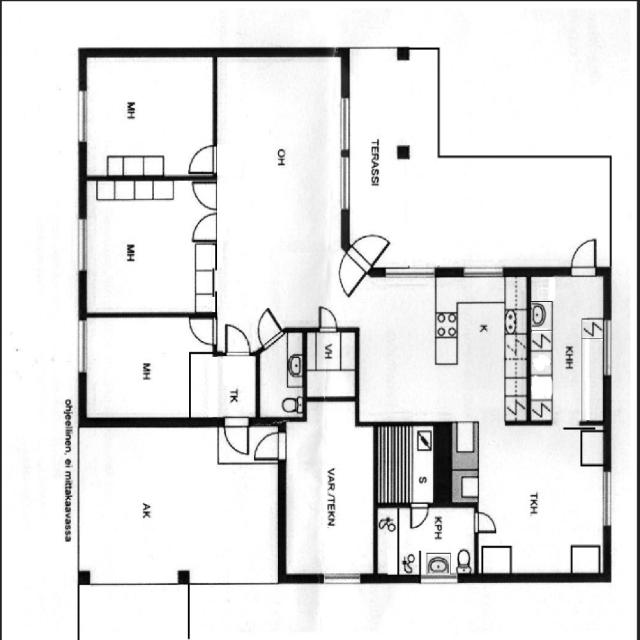door: (530, 270, 606, 425), (188, 183, 219, 246), (352, 232, 390, 269), (222, 414, 252, 458), (570, 234, 600, 276), (186, 140, 220, 176), (336, 252, 362, 298), (186, 314, 220, 347), (222, 321, 252, 358), (253, 428, 284, 462), (257, 312, 281, 346), (407, 502, 432, 532), (316, 304, 340, 334), (471, 510, 498, 534)
window: (83, 565, 184, 592), (335, 93, 356, 217), (71, 211, 92, 280), (72, 83, 92, 149), (71, 315, 92, 377), (337, 150, 354, 215), (338, 90, 353, 160), (599, 316, 615, 379), (379, 263, 441, 279), (599, 467, 615, 528), (413, 570, 462, 586), (317, 570, 364, 586), (459, 264, 508, 278)
zone: (215, 44, 344, 350), (78, 418, 285, 582), (355, 273, 533, 425), (468, 424, 606, 578), (81, 178, 216, 316), (282, 403, 378, 579), (81, 53, 216, 177), (530, 268, 608, 430), (80, 313, 190, 422), (374, 503, 478, 577), (374, 423, 438, 505), (190, 351, 258, 419), (259, 332, 305, 421), (306, 330, 358, 396)
